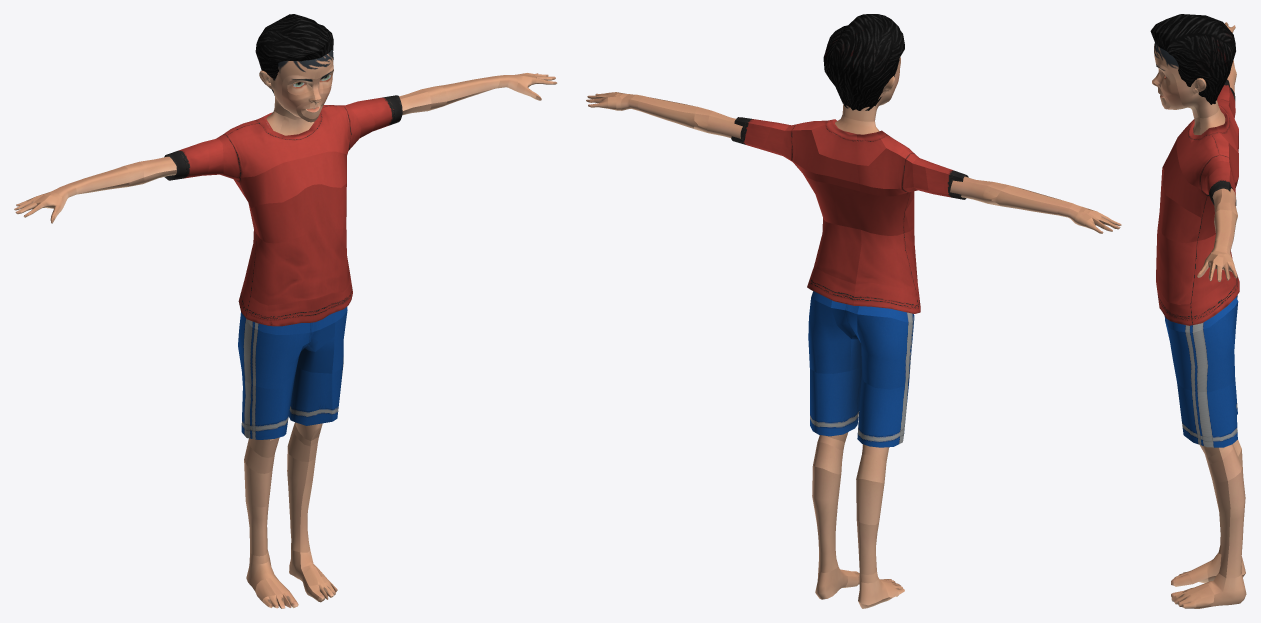
Rendered from children.fbx.
3 renders of one model, left to right at view 1: azimuth 30°, elevation 25°; view 2: azimuth 150°, elevation 25°; view 3: azimuth 270°, elevation 25°, orthographic.
Parts seen in each view (by area): view 1: childer; view 2: childer; view 3: childer.
Part boxes in pixels (box(x1,y1,x2,y2)): childer: box(14, 14, 557, 608); childer: box(586, 14, 1121, 608); childer: box(1150, 14, 1246, 608).
Size of the model in its own units: 54.96 by 56.53 by 8.49.
Materials: 4 (4 with a texture image).
